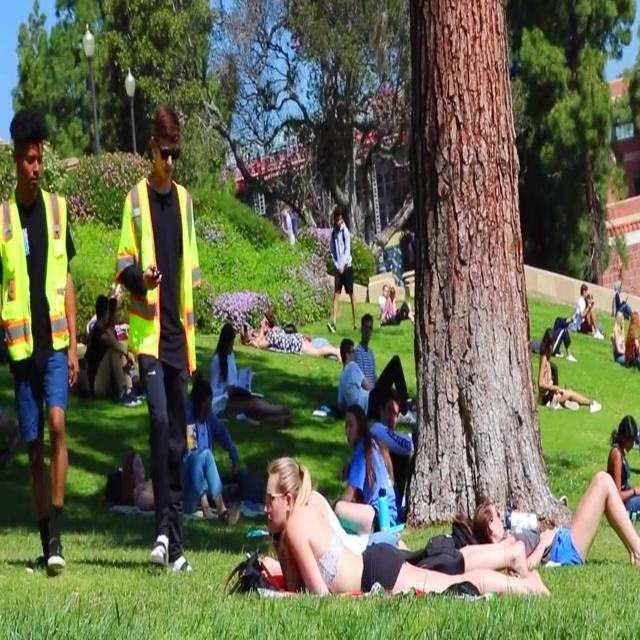Reflective-Jacket: (124, 175, 198, 366), (1, 187, 72, 370)
